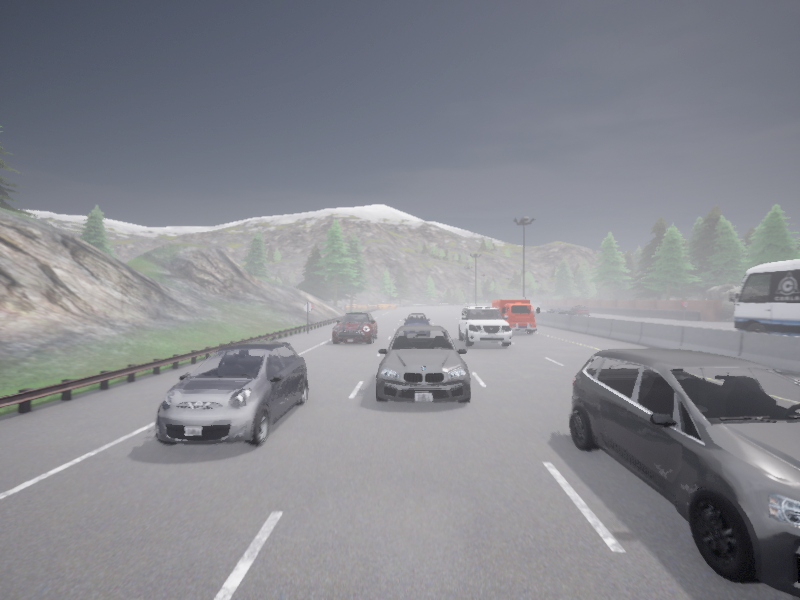vehicle: (570, 348, 799, 597), (155, 341, 308, 445), (376, 325, 470, 402), (729, 259, 799, 336), (458, 306, 511, 347), (491, 299, 538, 333), (333, 312, 377, 343), (404, 313, 430, 324), (571, 306, 589, 315), (546, 309, 568, 314), (557, 308, 574, 314)
